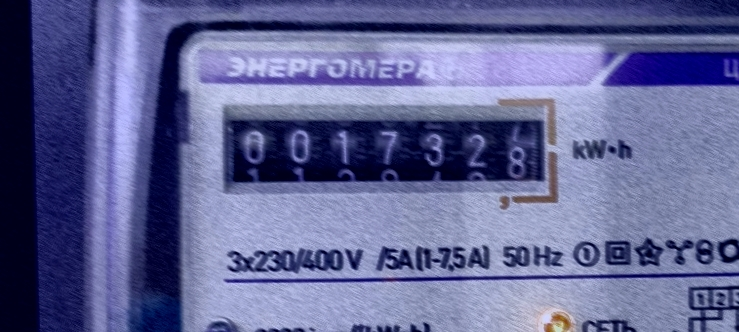0: (240, 125, 267, 165), (288, 125, 311, 164)
1: (333, 125, 352, 165)
2: (464, 130, 487, 167)
3: (423, 129, 445, 166)
7: (377, 126, 400, 165)
8: (506, 142, 525, 178)
screen: (211, 92, 567, 217)
